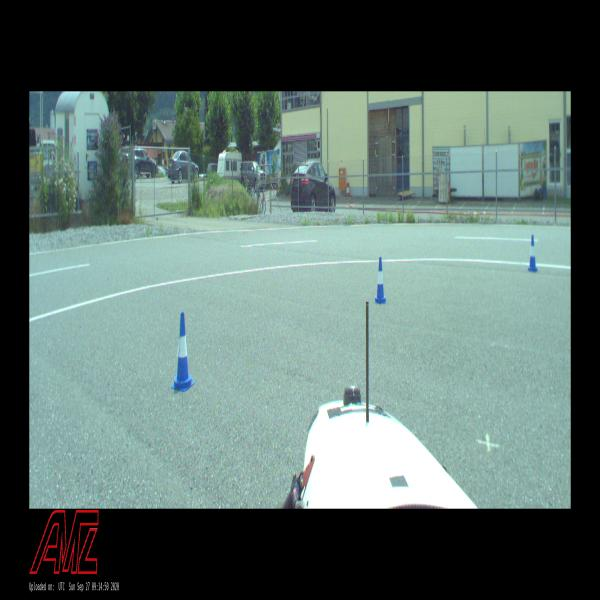blue_cone: (171, 312, 195, 392), (374, 258, 386, 304), (528, 235, 538, 272)
